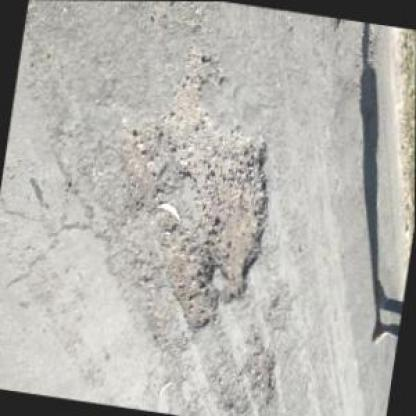pothole: (96, 38, 295, 342), (238, 343, 283, 409)
